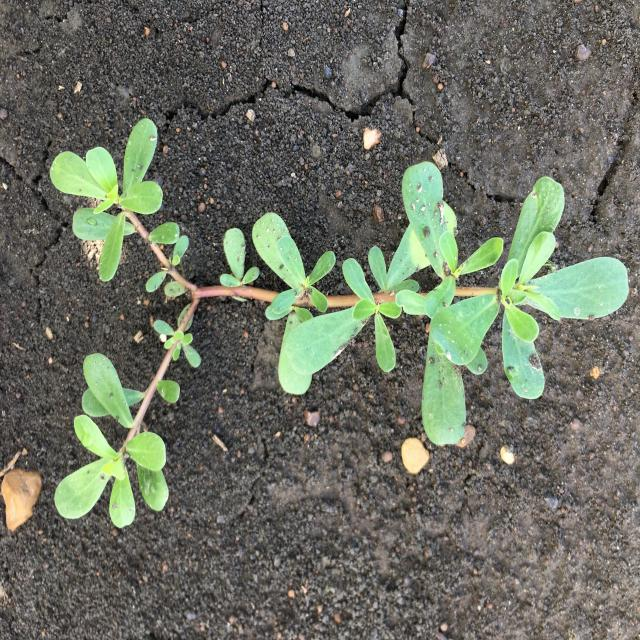Purslane: (50, 118, 630, 528)
